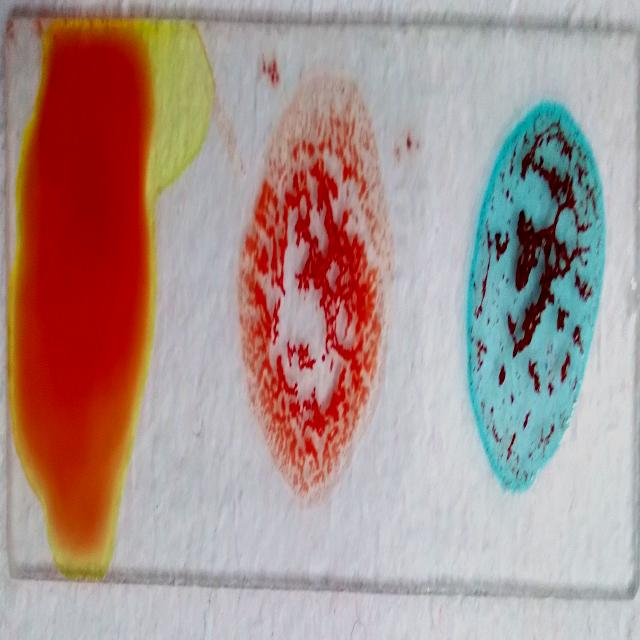A: (467, 116, 598, 488)
D: (250, 79, 376, 498)
